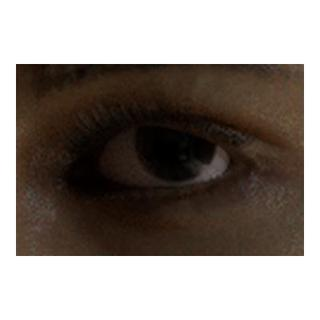pupil: (154, 120, 196, 162)
